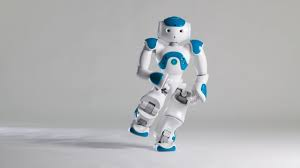nao: (129, 9, 218, 167)
